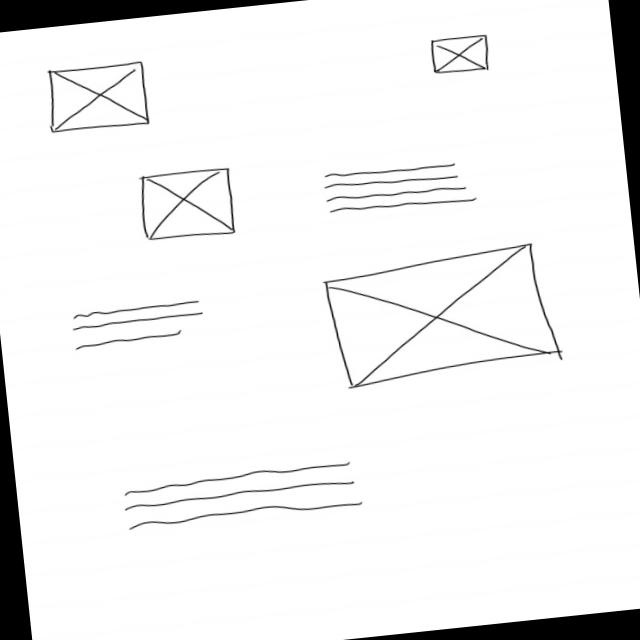image: (320, 238, 564, 391), (42, 59, 152, 135), (136, 165, 238, 244), (428, 31, 492, 78)
textbox: (120, 458, 364, 532), (318, 154, 486, 218), (66, 295, 208, 353)
